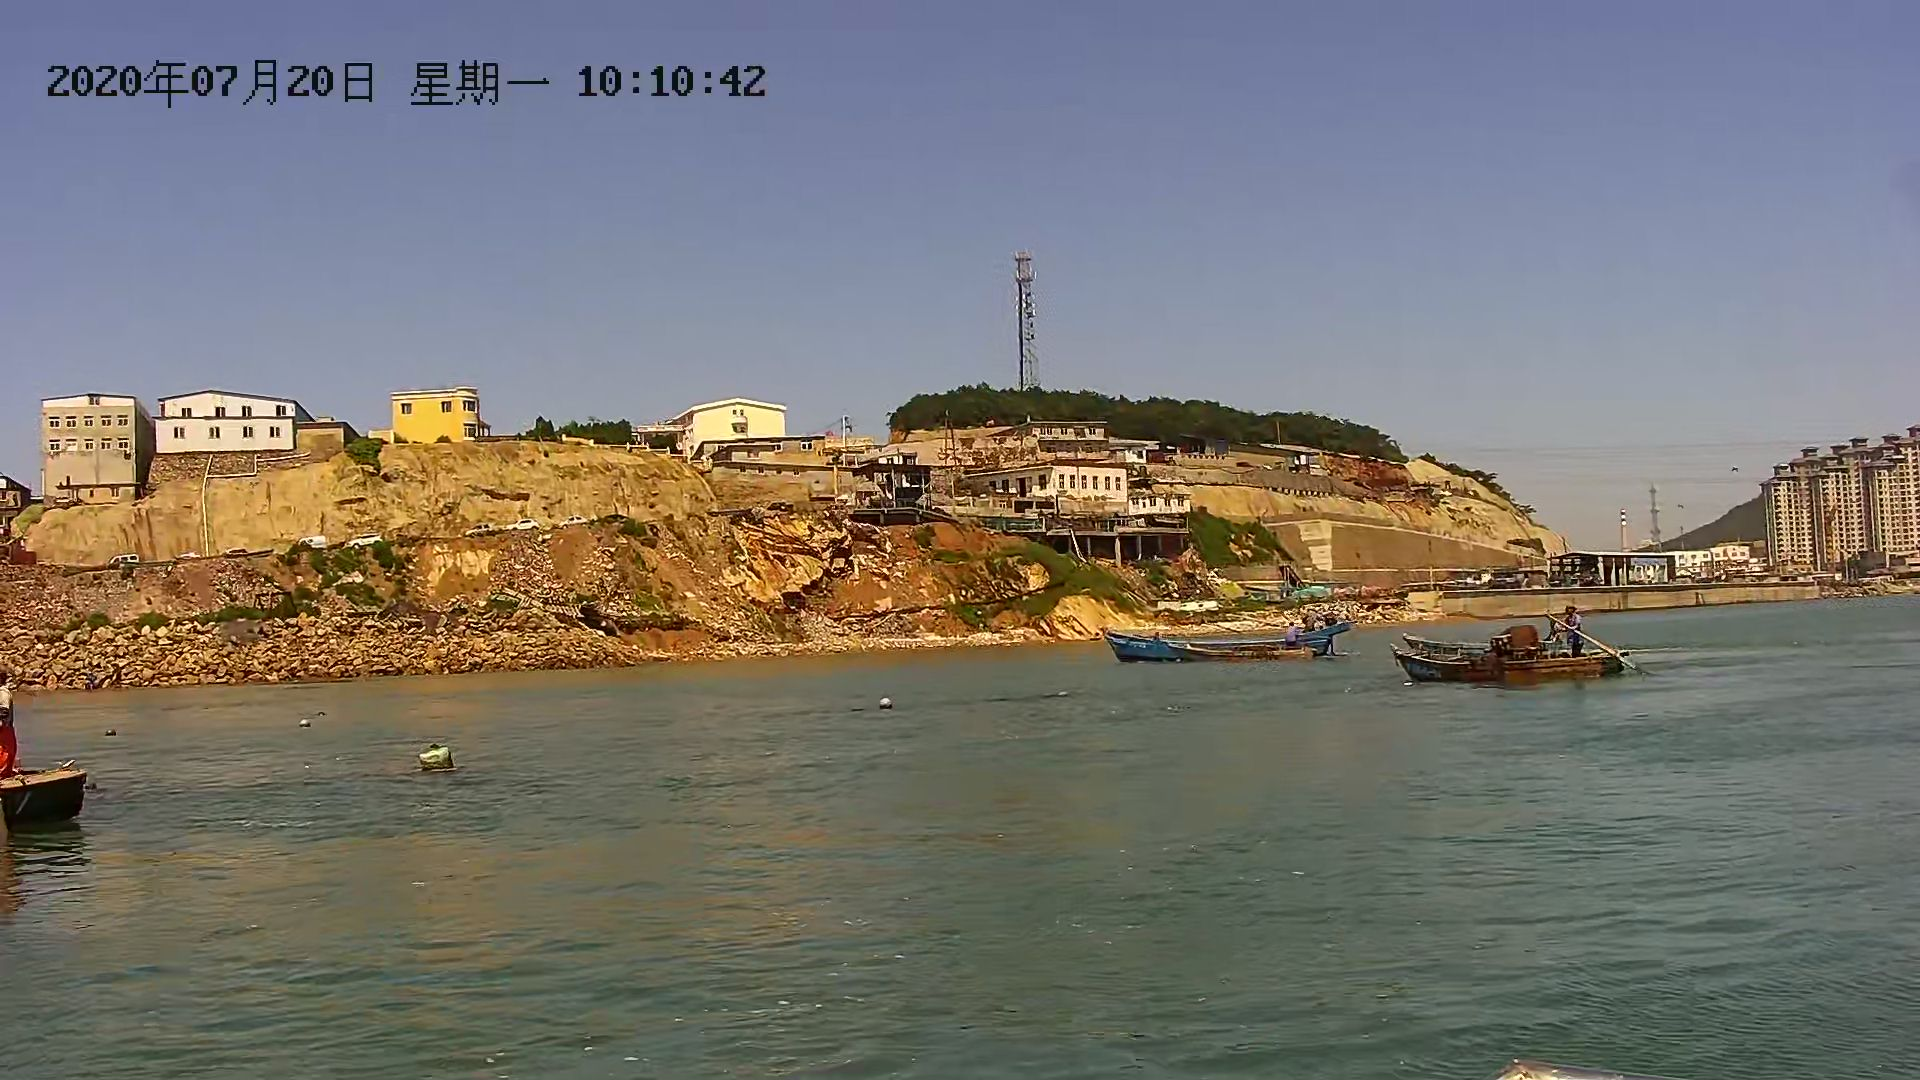boat: (1102, 613, 1347, 664), (1390, 632, 1637, 679)
person: (1557, 601, 1586, 654)
rubbish: (410, 746, 459, 777)
